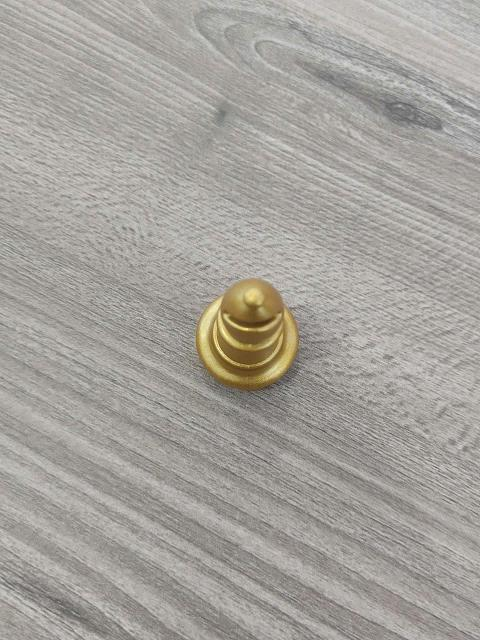black_bishop: (195, 274, 305, 393)
